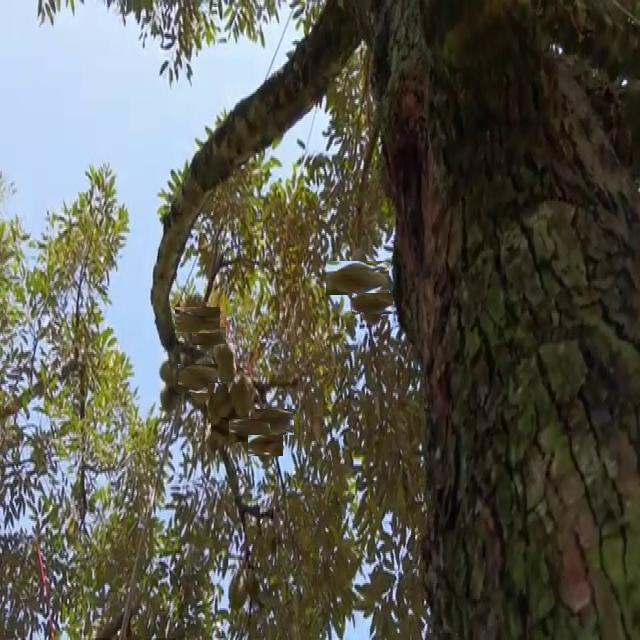durian: (332, 254, 382, 303), (183, 359, 222, 399), (179, 301, 216, 338), (257, 406, 291, 438), (215, 412, 248, 444), (234, 414, 266, 447), (208, 383, 231, 428), (357, 288, 388, 320), (230, 376, 253, 419), (227, 568, 247, 614), (251, 432, 280, 460), (218, 344, 238, 382), (196, 323, 223, 349)
